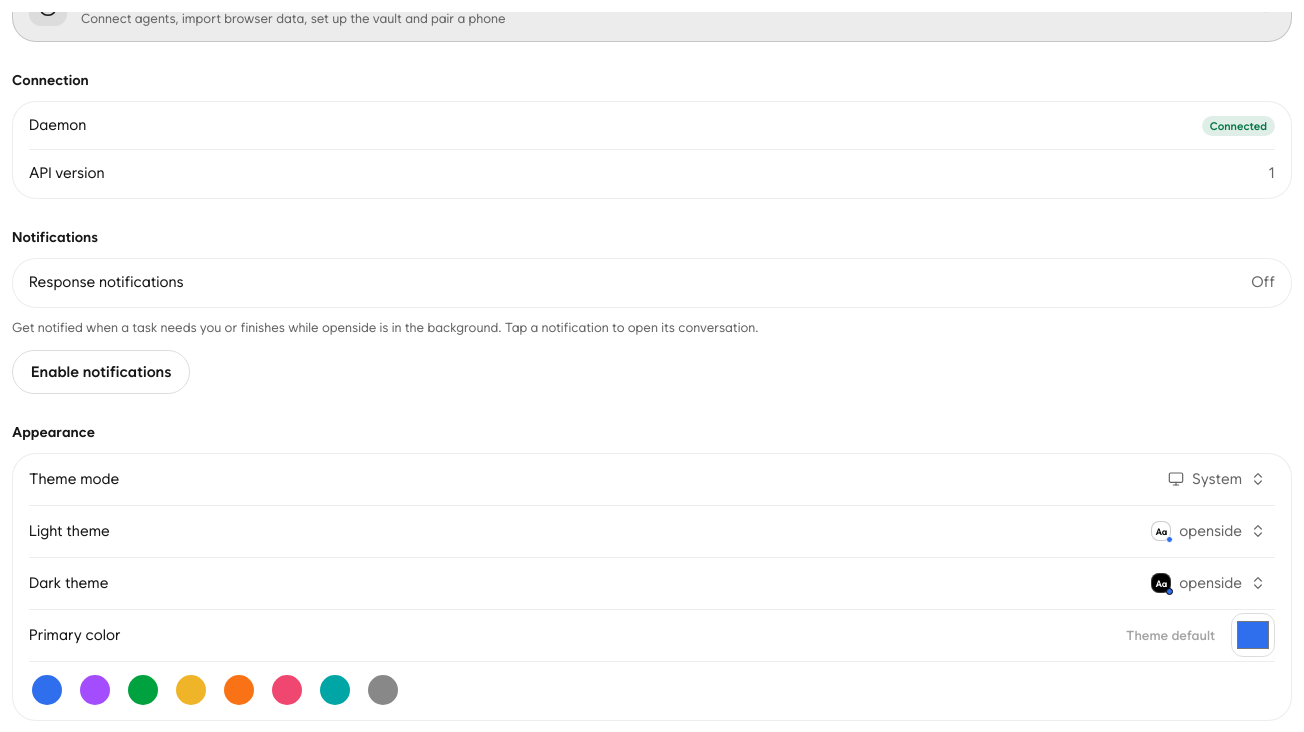
Test: Notifications without a push service › falls back to the extension's desktop notifications when subscribe() is rejected
The width and height of the screenshot is (1304, 732).
(page scrolled)
Click the button "Enable notifications": coordinates (101, 372) [12, 350, 190, 394]
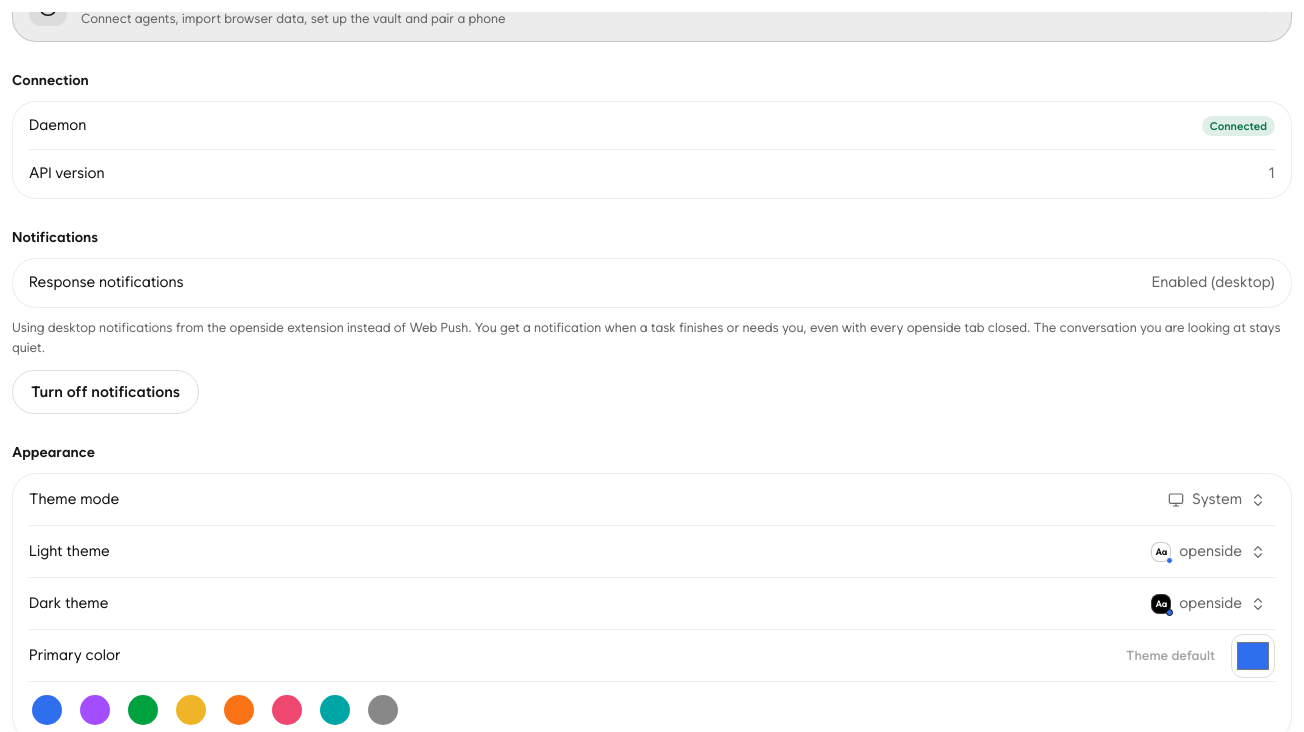
Expected: the button "Turn off notifications" is shown, [12, 370, 199, 414]
Expected: the text "Enabled (desktop)" is shown, [1152, 272, 1275, 294]
Expected: the text "Using desktop notifications from the openside extension instead" is shown, [12, 320, 1281, 355]
